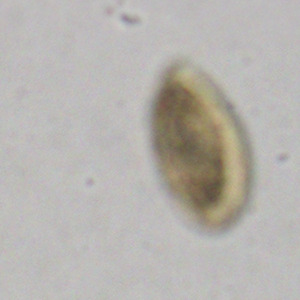Fasciola_hepatica_egg: (152, 53, 253, 237)
